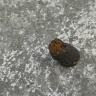Dog: (49, 38, 80, 68)
